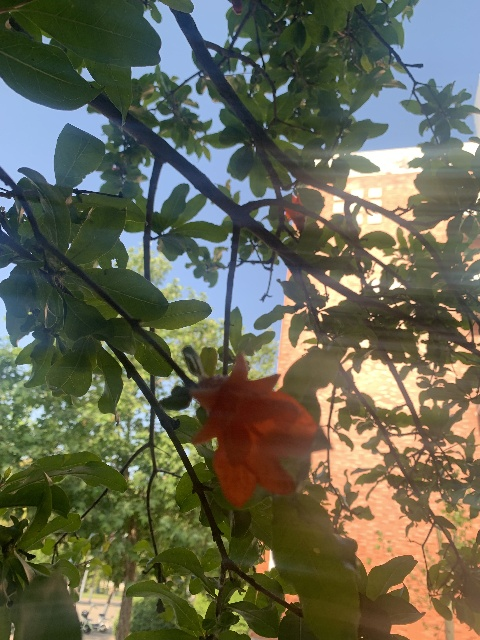flower: (189, 353, 316, 507), (283, 194, 305, 230)
